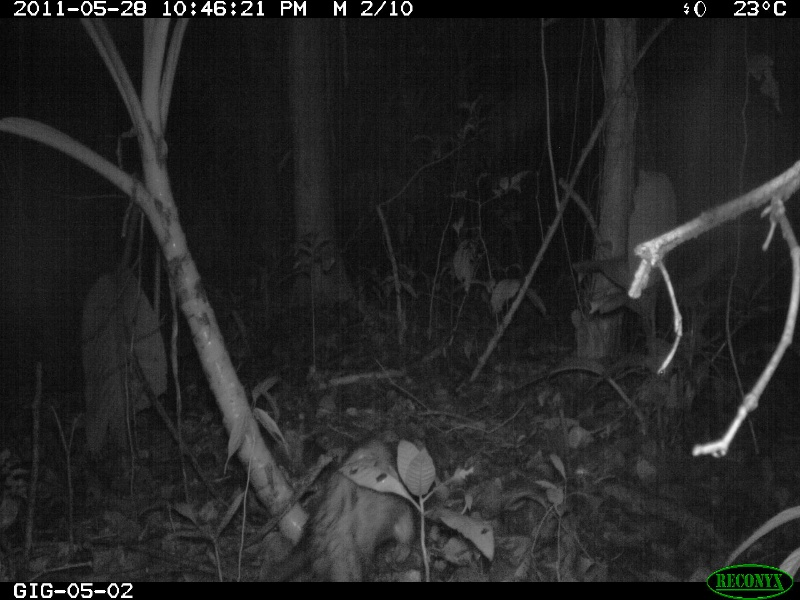opossum: (257, 416, 421, 582)
